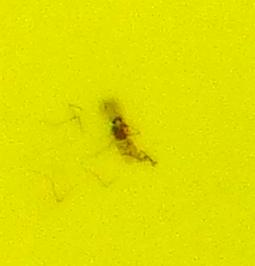Brachycera: (100, 100, 155, 166)
